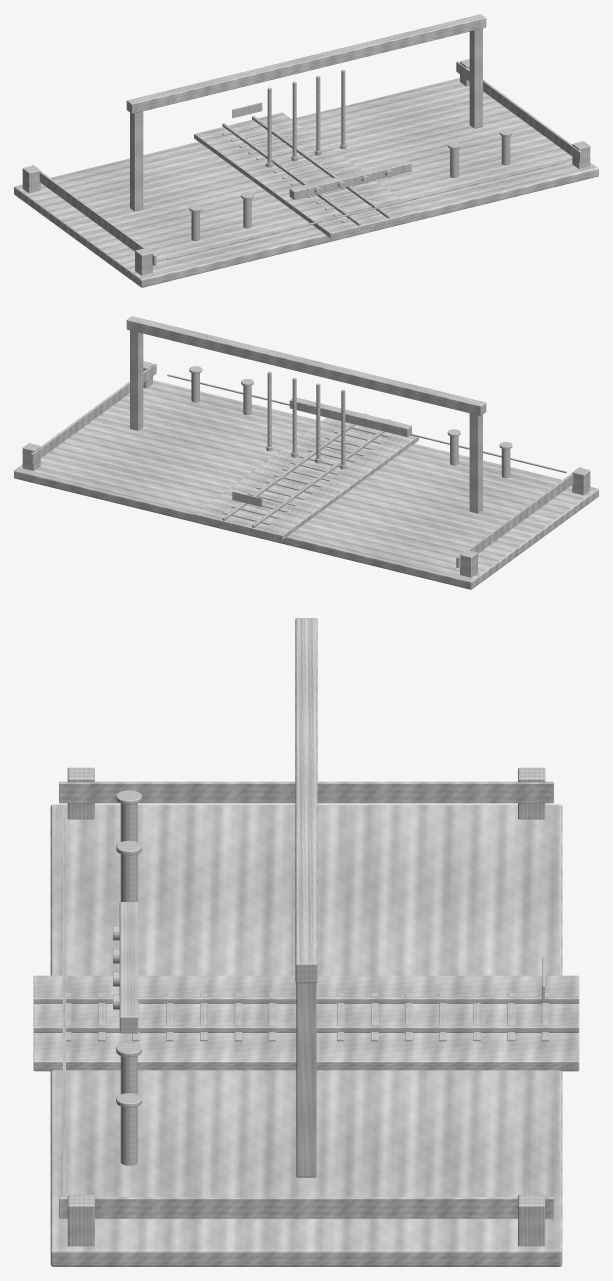
Rendered from freight_platform_variant_b.glb.
The picture shows the model from 3 angles, top to bottom: view 1: azimuth 30°, elevation 25°; view 2: azimuth 150°, elevation 25°; view 3: azimuth 270°, elevation 25°; orthographic projection. The views are drawn at different scales.
Visible parts, largest first — view 1: Platform foundation.001, Track bed.001, Pipe gantry beam, Fluid manifold, Platform edge guard.003, Gantry upright, Gantry upright.001, Platform edge guard.002, Platform warning line.001, Rail.002, Rail.003, Platform support pier.005 (+5 smaller); view 2: Platform foundation.001, Track bed.001, Pipe gantry beam, Fluid manifold, Platform edge guard.003, Gantry upright, Gantry upright.001, Platform edge guard.002, Rail.002, Rail.003, Platform warning line.001, Platform support pier.004 (+5 smaller); view 3: Platform foundation.001, Track bed.001, Platform edge guard.002, Platform edge guard.003, Pipe gantry beam, Gantry upright.001, Rail.003, Rail.002, Fluid manifold, Platform warning line.001, Platform support pier.006, Platform support pier.007 (+4 smaller).
Part boxes in pixels (left/top/right/bottom): Platform foundation.001: left=14, top=78, right=598, bottom=287; Track bed.001: left=194, top=112, right=418, bottom=238; Pipe gantry beam: left=126, top=14, right=486, bottom=113; Fluid manifold: left=289, top=160, right=411, bottom=199; Platform edge guard.003: left=456, top=61, right=581, bottom=162; Gantry upright: left=130, top=111, right=143, bottom=211; Gantry upright.001: left=469, top=28, right=482, bottom=128; Platform edge guard.002: left=31, top=165, right=156, bottom=265; Platform warning line.001: left=167, top=161, right=566, bottom=259; Rail.002: left=222, top=123, right=360, bottom=225; Rail.003: left=252, top=116, right=390, bottom=218; Platform support pier.005: left=22, top=165, right=40, bottom=193; Platform foundation.001: left=14, top=380, right=598, bottom=589; Track bed.001: left=194, top=417, right=418, bottom=540; Pipe gantry beam: left=126, top=316, right=486, bottom=415; Fluid manifold: left=289, top=397, right=411, bottom=436; Platform edge guard.003: left=31, top=363, right=156, bottom=464; Gantry upright: left=469, top=413, right=482, bottom=513; Gantry upright.001: left=130, top=330, right=143, bottom=430; Platform edge guard.002: left=456, top=467, right=581, bottom=567; Rail.002: left=252, top=431, right=385, bottom=527; Rail.003: left=222, top=423, right=355, bottom=520; Platform warning line.001: left=167, top=374, right=566, bottom=472; Platform support pier.004: left=572, top=467, right=590, bottom=495; Platform foundation.001: left=50, top=804, right=562, bottom=1266; Track bed.001: left=33, top=975, right=579, bottom=1071; Platform edge guard.002: left=59, top=781, right=553, bottom=803; Platform edge guard.003: left=59, top=1197, right=553, bottom=1218; Pipe gantry beam: left=295, top=618, right=317, bottom=983; Gantry upright.001: left=296, top=983, right=316, bottom=1177; Rail.003: left=33, top=1025, right=579, bottom=1032; Rail.002: left=33, top=996, right=579, bottom=1003; Fluid manifold: left=119, top=902, right=138, bottom=1033; Platform warning line.001: left=62, top=809, right=65, bottom=1196; Platform support pier.006: left=67, top=1194, right=94, bottom=1246; Platform support pier.007: left=518, top=1194, right=545, bottom=1246.
Size of what is drawn, in the model's own units: 31 by 8.33 by 16.
4 materials, 4 textured.
